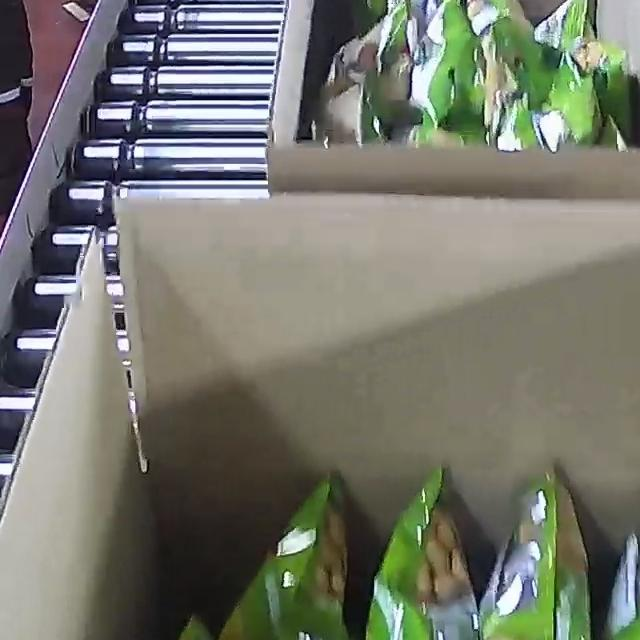yogurt: (78, 459, 640, 640), (313, 0, 638, 152)
